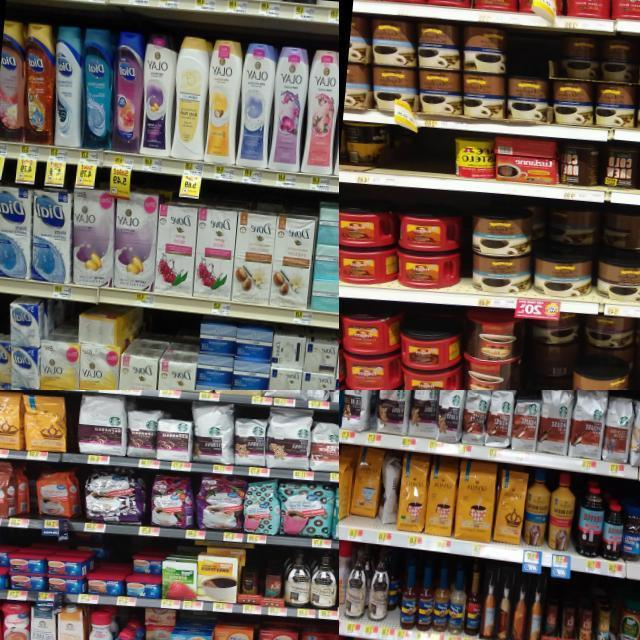Imprecise: (539, 203, 640, 300), (555, 32, 640, 130), (580, 315, 637, 398), (516, 312, 576, 389), (342, 122, 388, 174)
